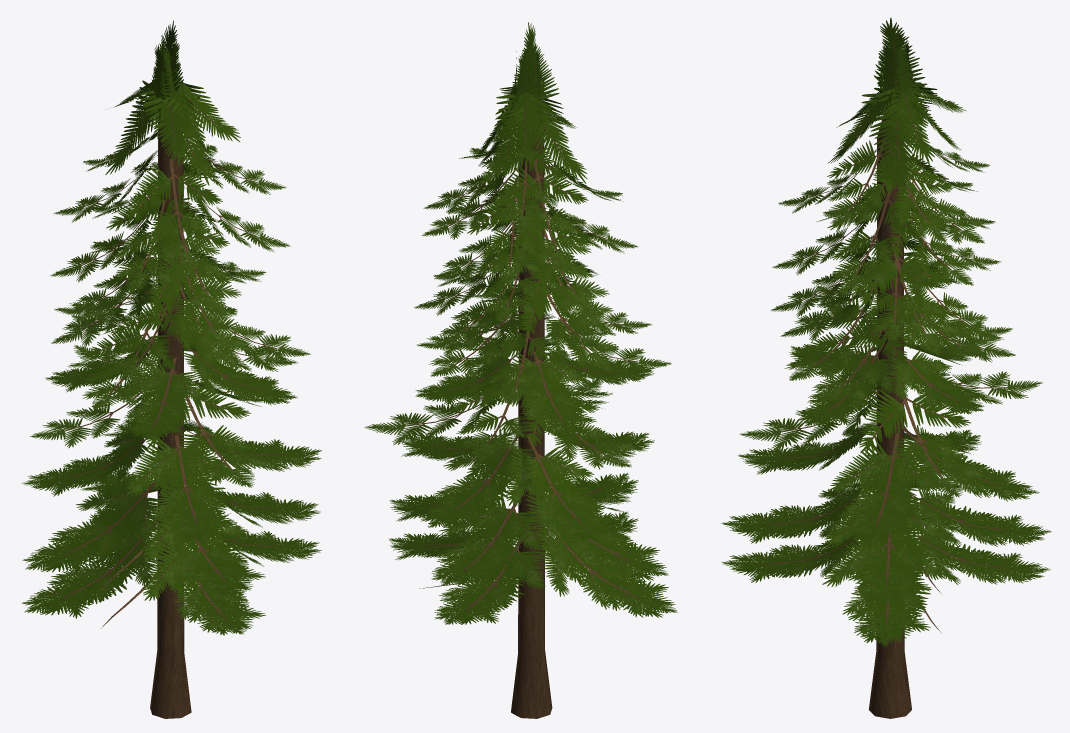
Rendered from Pine.fbx.
The picture shows the model from 3 angles, left to right: view 1: azimuth 30°, elevation 25°; view 2: azimuth 150°, elevation 25°; view 3: azimuth 270°, elevation 25°; orthographic projection.
Visible parts, largest first — view 1: Pine5; view 2: Pine5; view 3: Pine5.
Boxes of the visible parts, x1,y1,x2,y2 form: Pine5: (21, 20, 321, 718); Pine5: (364, 22, 677, 718); Pine5: (721, 17, 1051, 718).
Bounding box in the file's own units: 11.28 × 24.92 × 11.
1 material, 1 textured.
